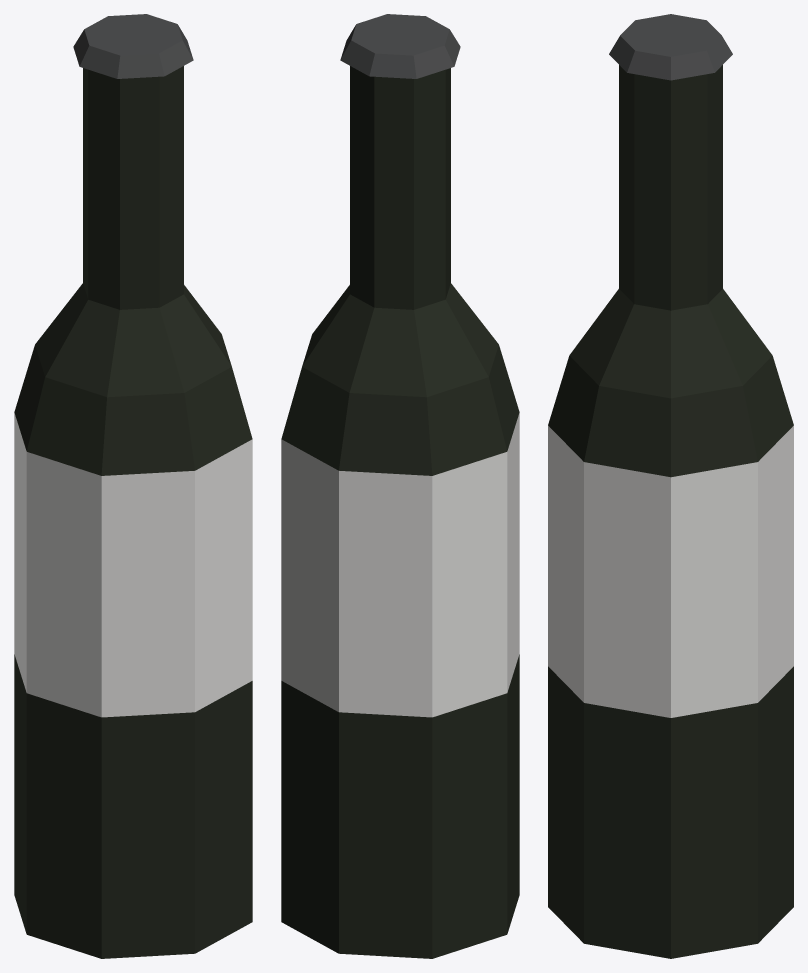
The model's file is SM_bottle_04.fbx.
3 views of the same model, side by side, from view 1: azimuth 30°, elevation 25°; view 2: azimuth 150°, elevation 25°; view 3: azimuth 270°, elevation 25° (orthographic).
Visible parts, largest first — view 1: Cylinder034; view 2: Cylinder034; view 3: Cylinder034.
Boxes of the visible parts, box(x1,y1,x2,y2) form: Cylinder034: box(14, 14, 252, 958); Cylinder034: box(281, 14, 519, 958); Cylinder034: box(548, 14, 793, 958).
Size of the model in its own units: 4.52 by 4.52 by 17.68.
